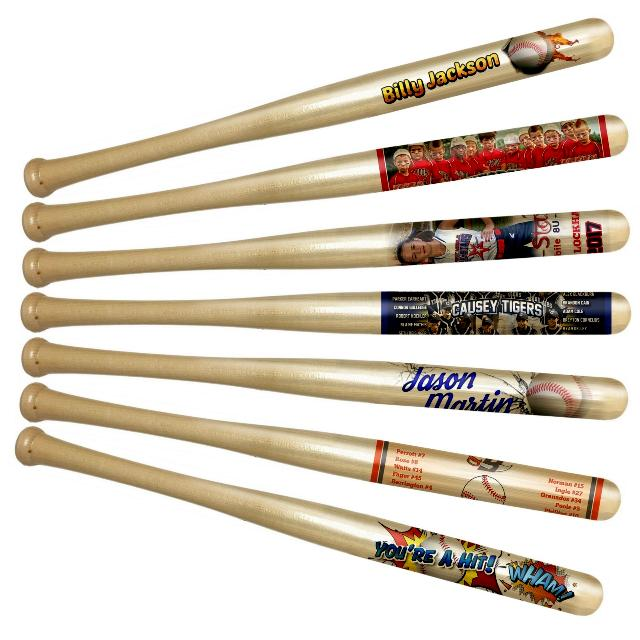baseball bat: (25, 279, 629, 335)
